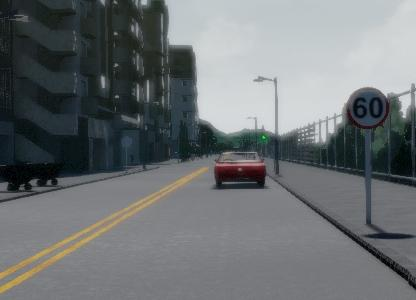Speed_60: (346, 84, 390, 132)
